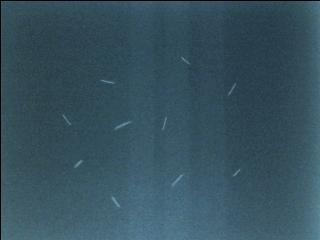scratch: (167, 169, 188, 189), (107, 193, 121, 209), (113, 120, 133, 131), (72, 156, 88, 169), (227, 81, 238, 98), (60, 112, 72, 126), (228, 166, 241, 178), (178, 54, 191, 66), (99, 78, 116, 85), (161, 116, 168, 131)
